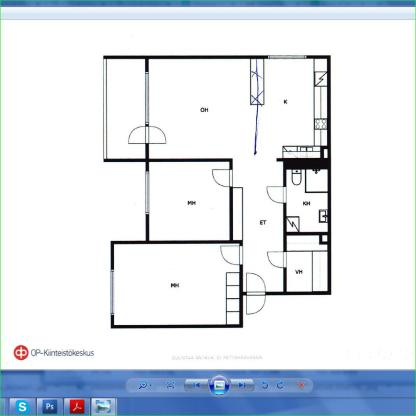door: (128, 125, 167, 147), (246, 272, 266, 314), (220, 245, 243, 266), (210, 168, 235, 187), (266, 249, 288, 269), (265, 186, 287, 204)
window: (110, 271, 115, 315), (145, 70, 149, 124), (269, 55, 306, 60), (145, 170, 149, 216)
zone: (148, 58, 328, 290), (113, 243, 239, 324), (149, 162, 229, 240), (108, 60, 144, 160), (286, 170, 327, 231), (286, 234, 327, 292)
